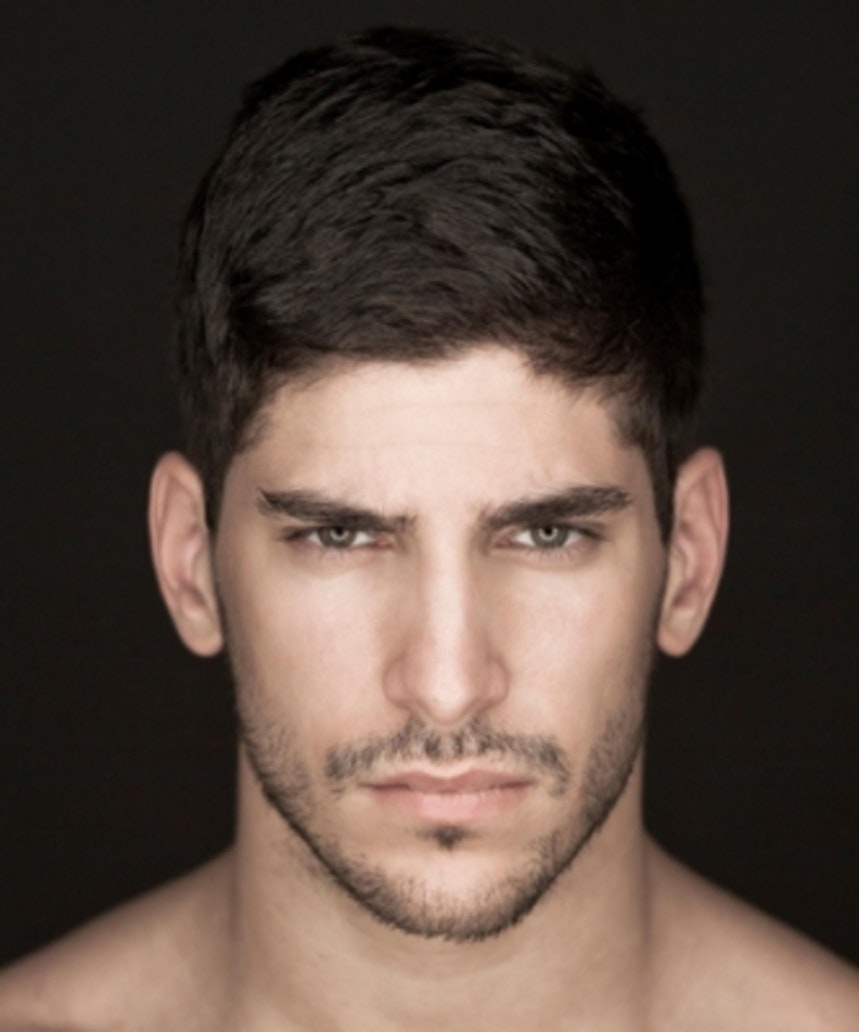bare: (225, 585, 664, 933)
